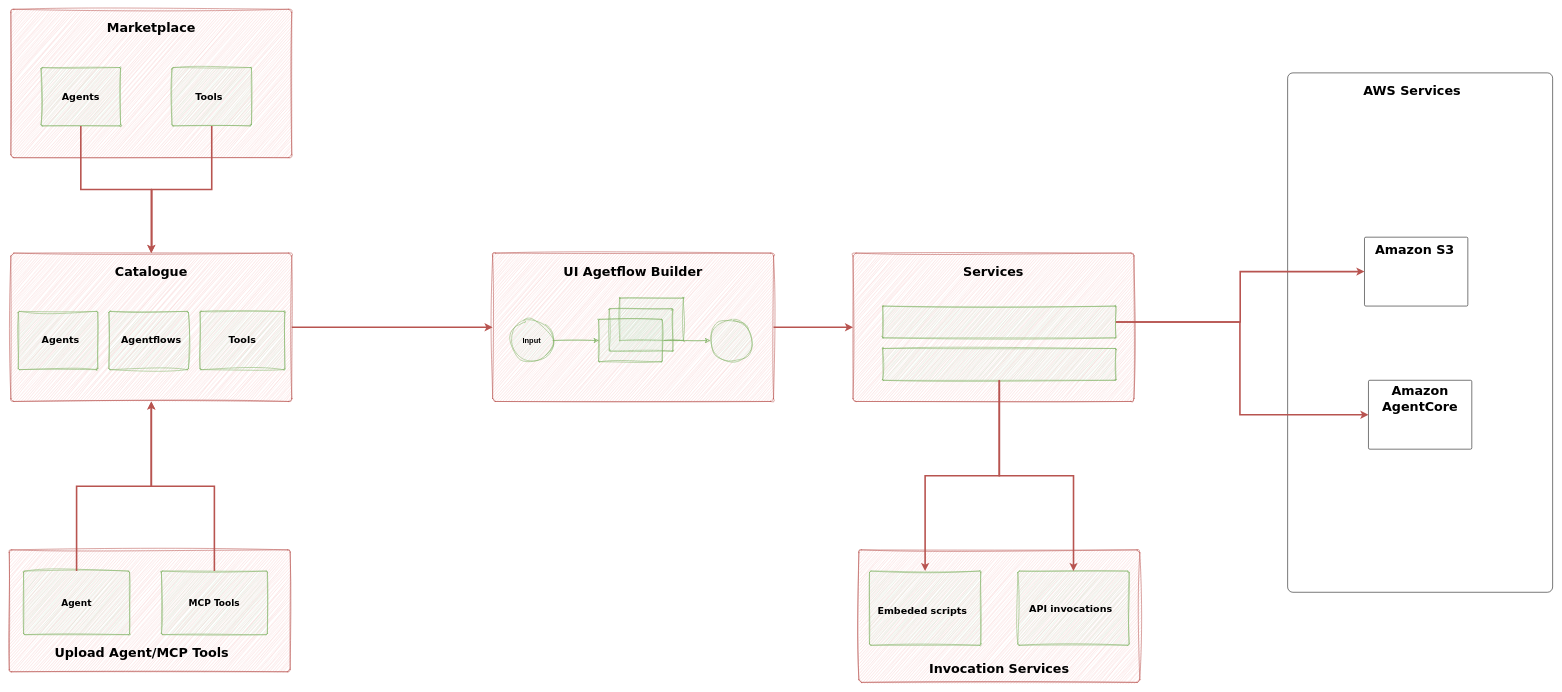
The diagram is 1562 pixels wide and 692 high, and some of its shapes have lost their labels. Here are the shapes that lost their labels. From the top down, the box of each, then its label:
(598, 319, 662, 362): Agents/ Agentflows/ Tools
(709, 319, 752, 362): Output
(882, 306, 1116, 338): Agent / Tools Deployment
(882, 348, 1116, 380): Agentflow Invocation
